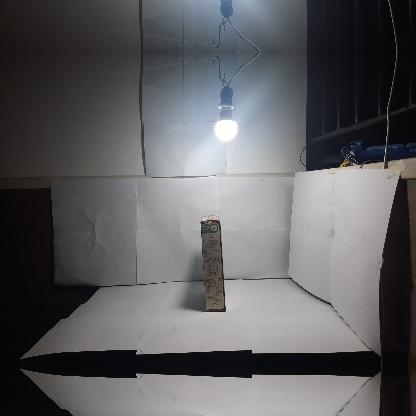Koko-Krunch: (200, 214, 225, 312)
